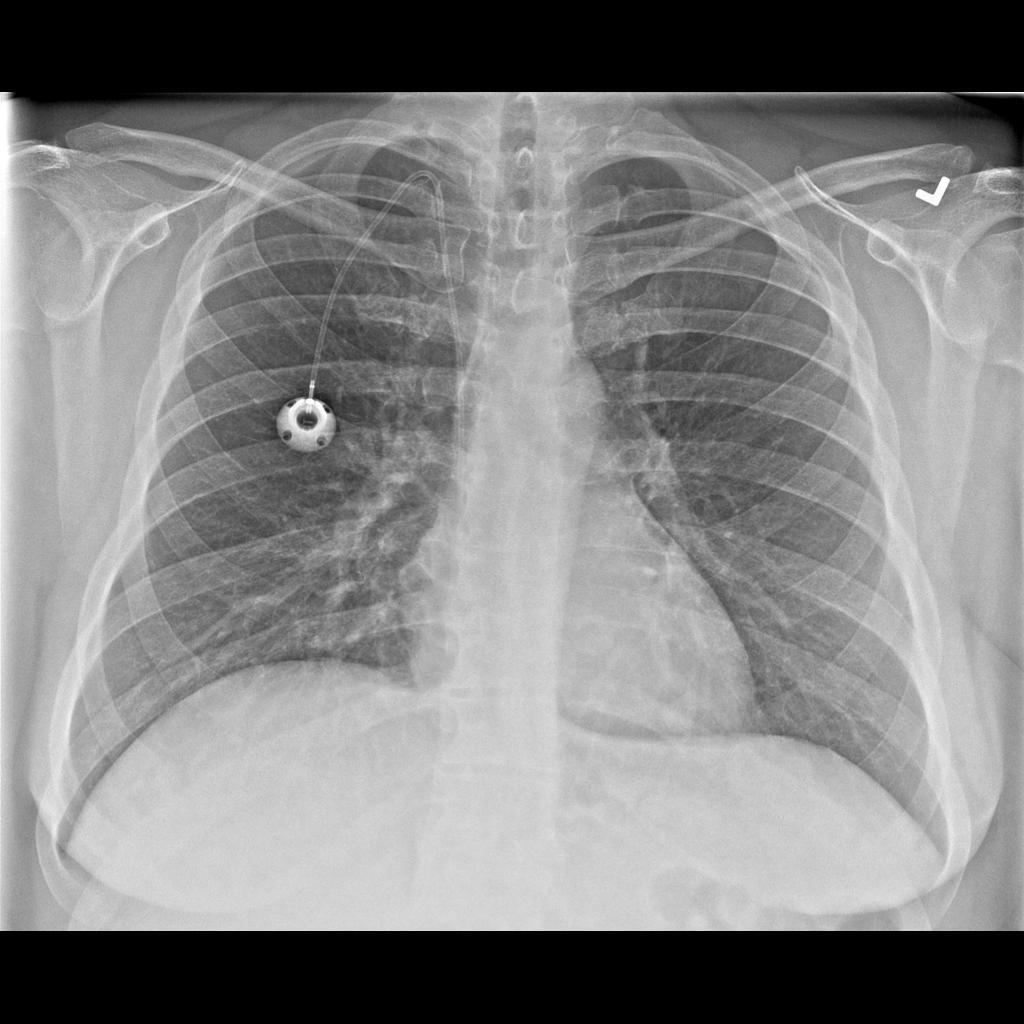Nodule: (658, 688, 702, 740)
